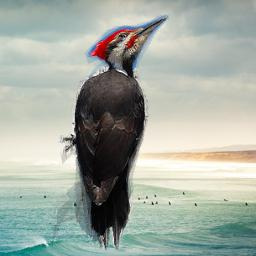Woodpecker: (52, 14, 175, 250)
